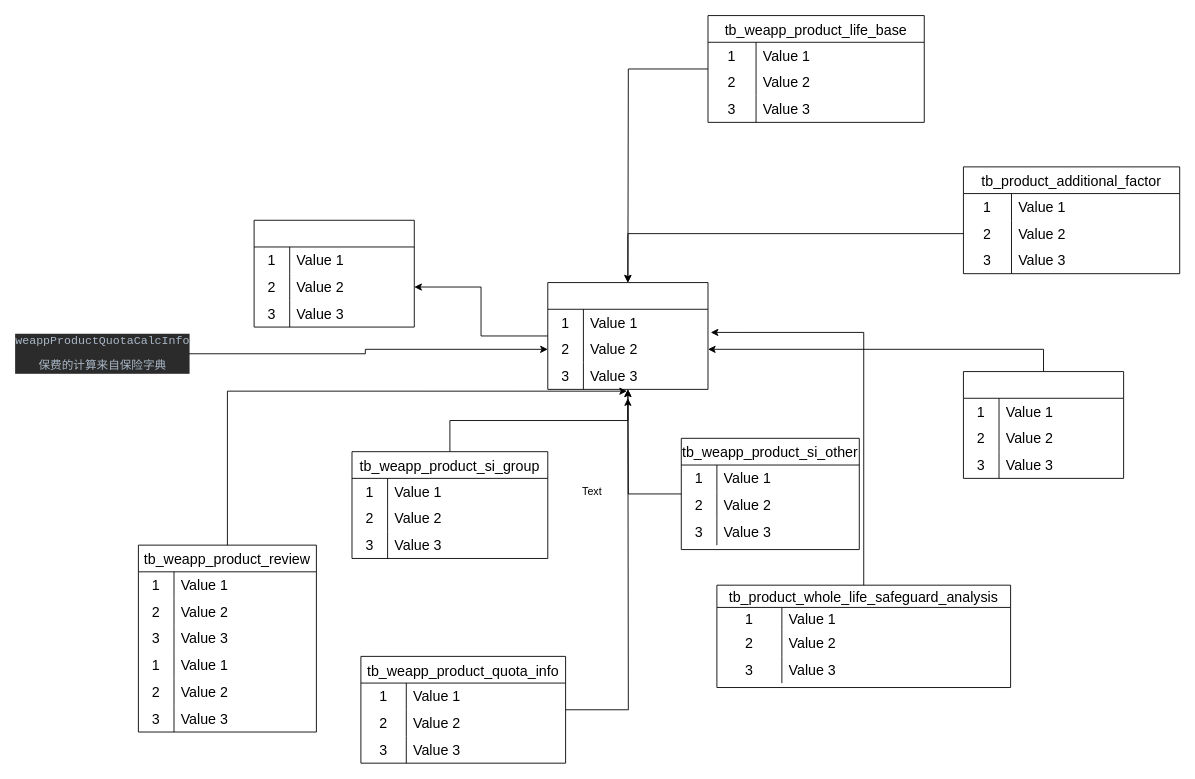
The diagram is 1195 pixels wide and 779 high, and some of its shapes have lost their labels. Each missing label, with the box of its shape:
tb_ins_company: (253, 219, 414, 327)
tb_product_additional: (963, 371, 1124, 478)
tb_weapp_product: (547, 282, 708, 389)
